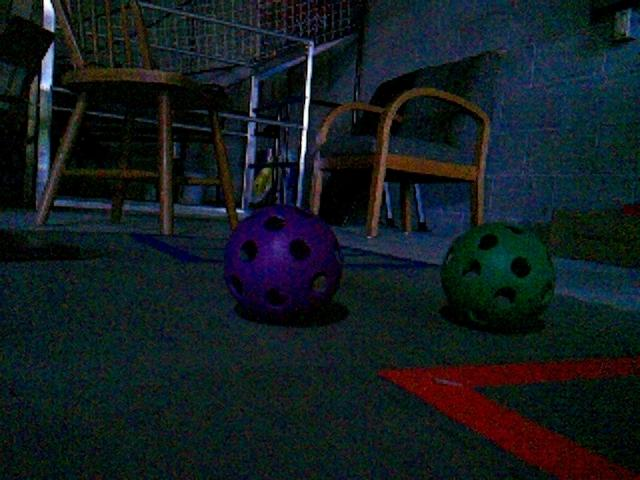Green: (439, 221, 558, 329)
Purple: (221, 203, 344, 320)
